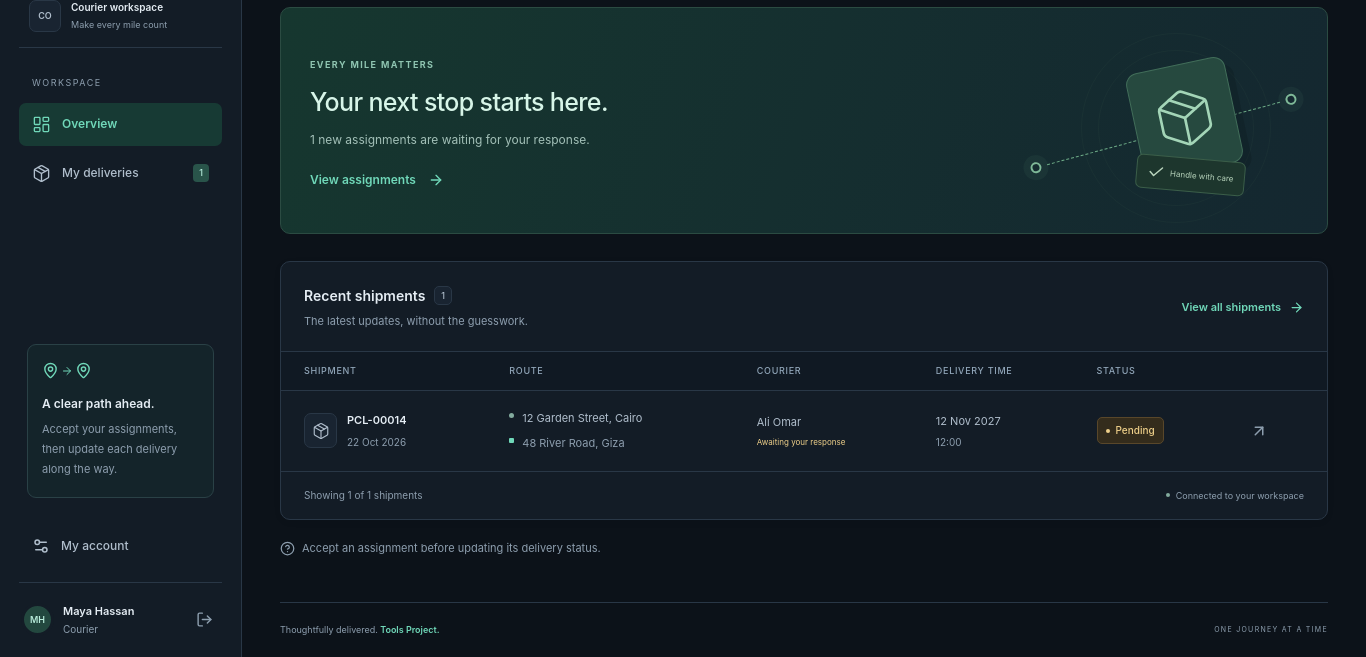
Tools Project workflows › requires a courier to accept an assignment before updating its status
(page scrolled)
Click the button named "View PCL-00014" at (1259, 431), box x1=1243 y1=415 x2=1275 y2=447
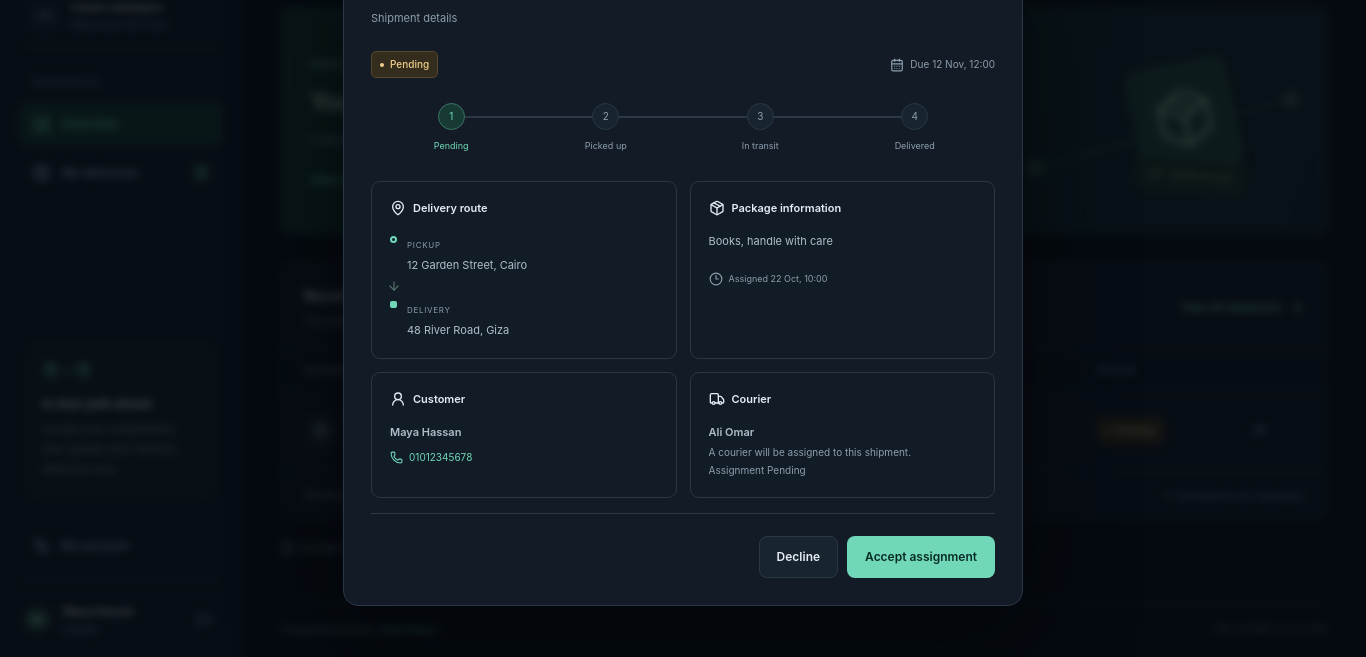
Expected: the button "Mark as picked up" is not shown
Click the button "Accept assignment" at (921, 557), box x1=847 y1=536 x2=995 y2=578
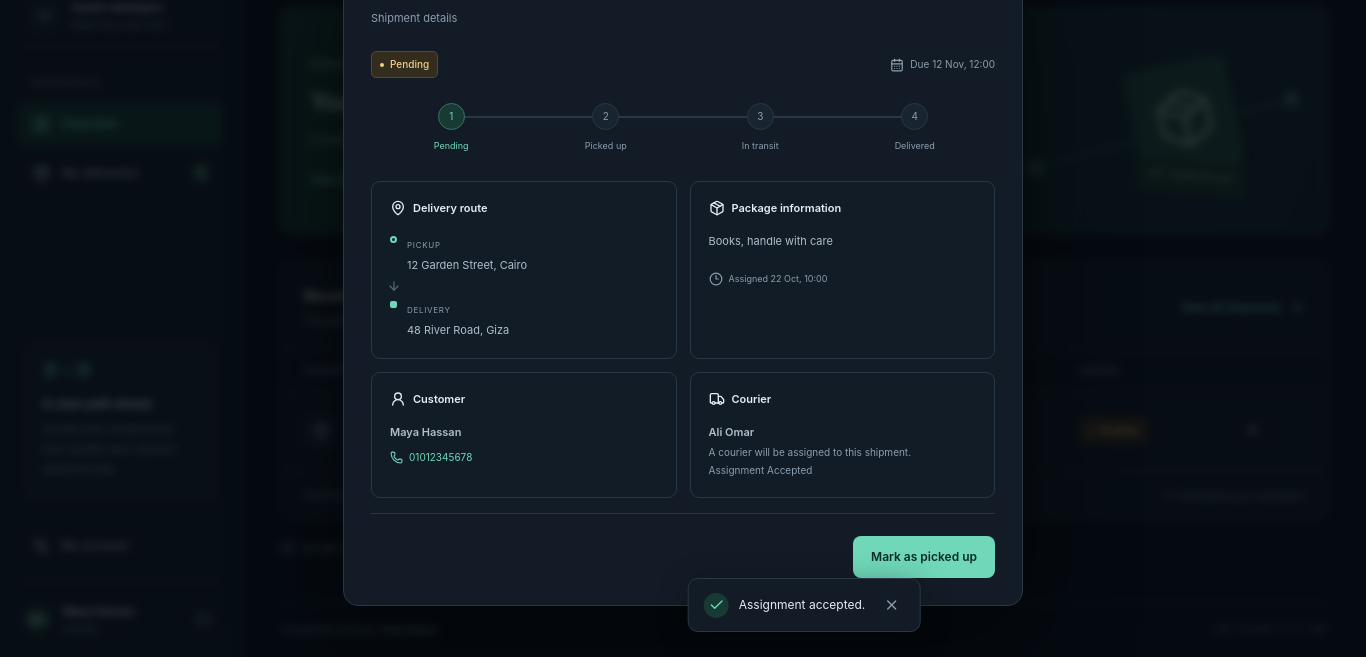
Click the button "Mark as picked up" at (924, 557), box x1=853 y1=536 x2=995 y2=578
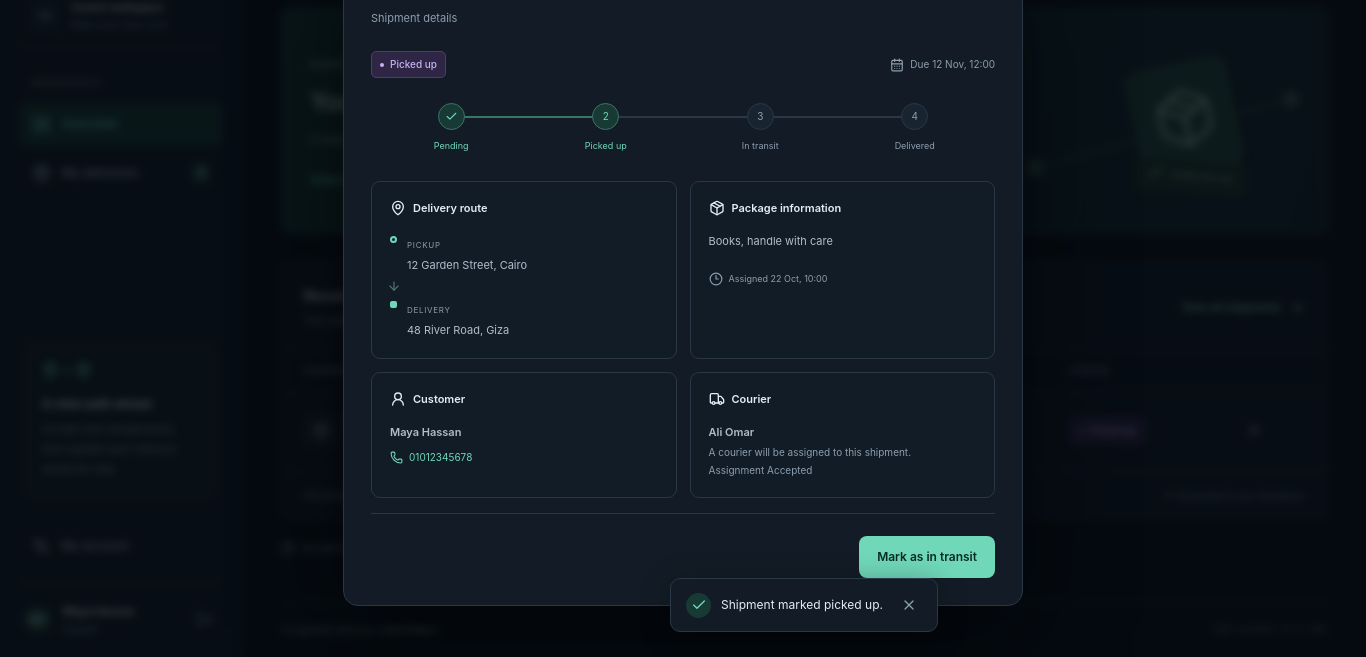
Result: the button "Mark as in transit" is shown at x1=859 y1=536 x2=995 y2=578
